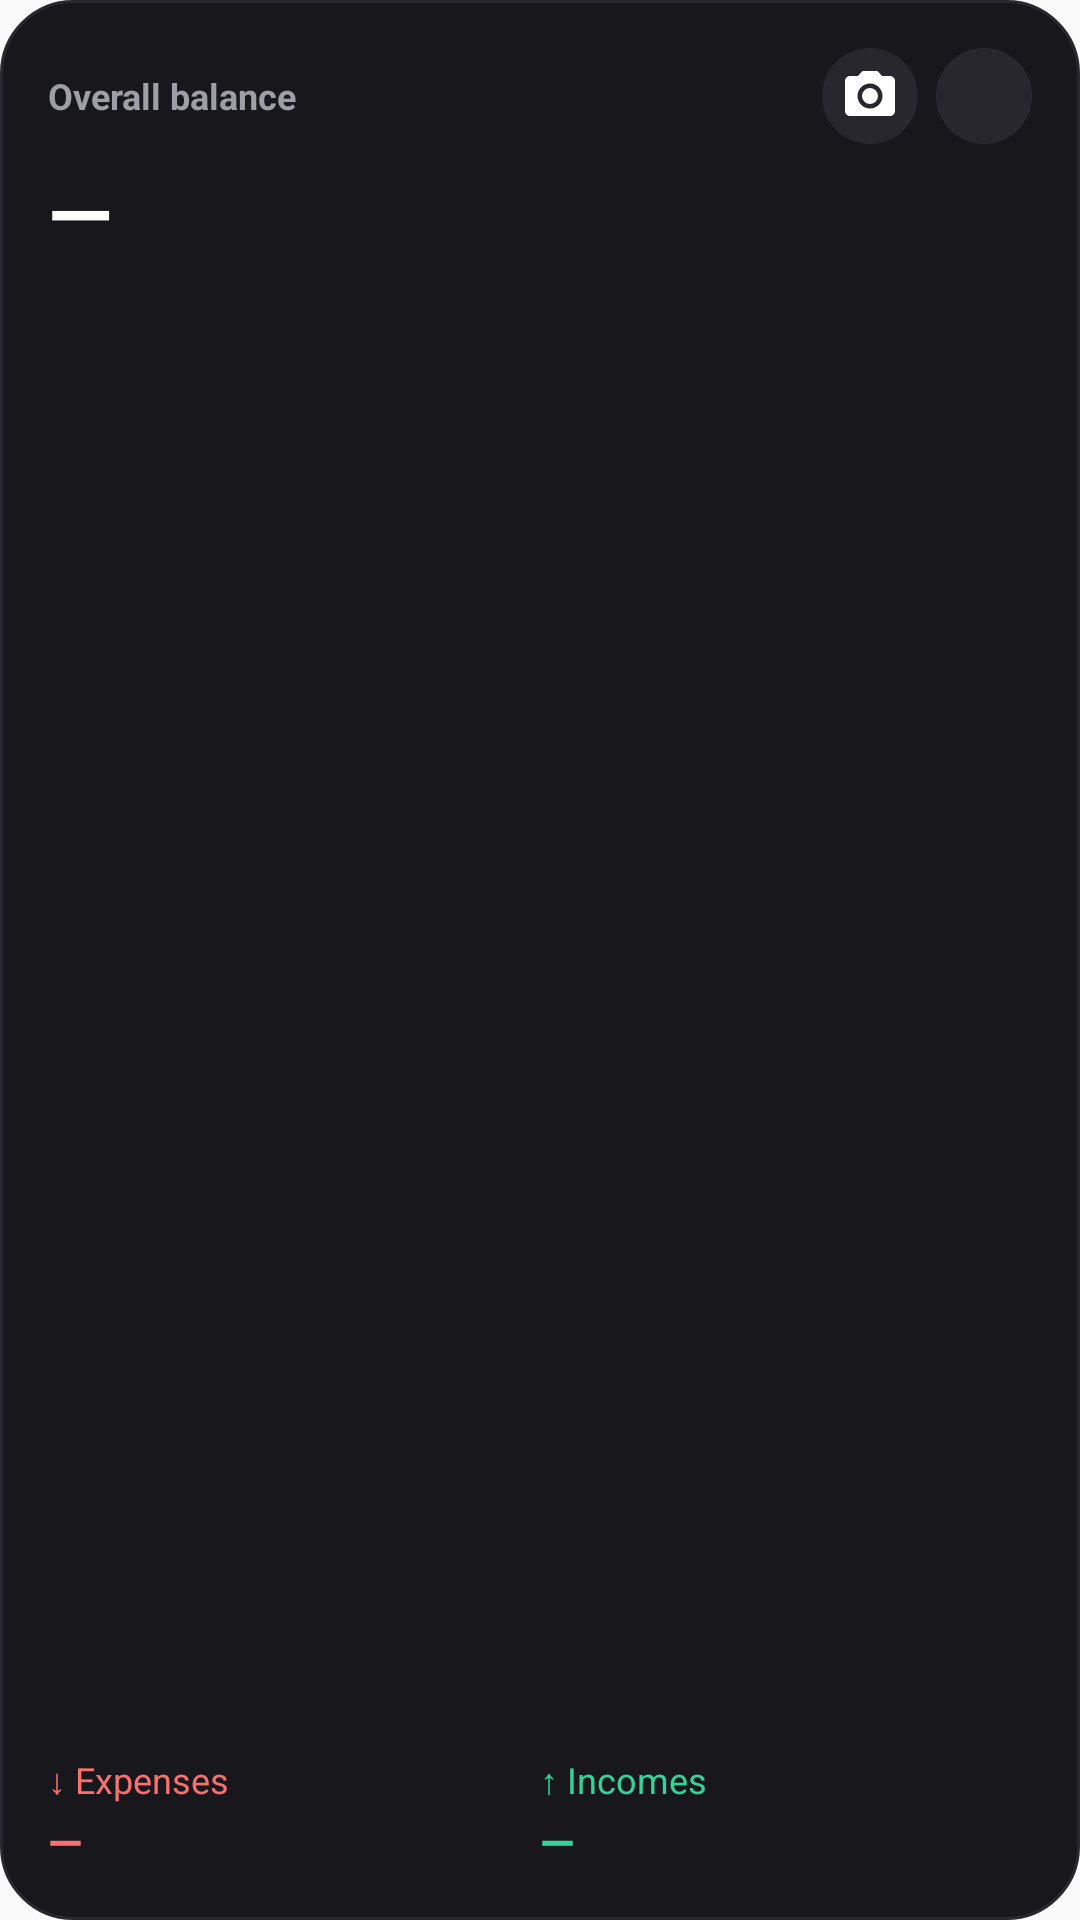

Where icons sit on this 1080x1920 app screen, as (x1, y1, x2, y2):
Scan receipt: (845, 71, 895, 116)
